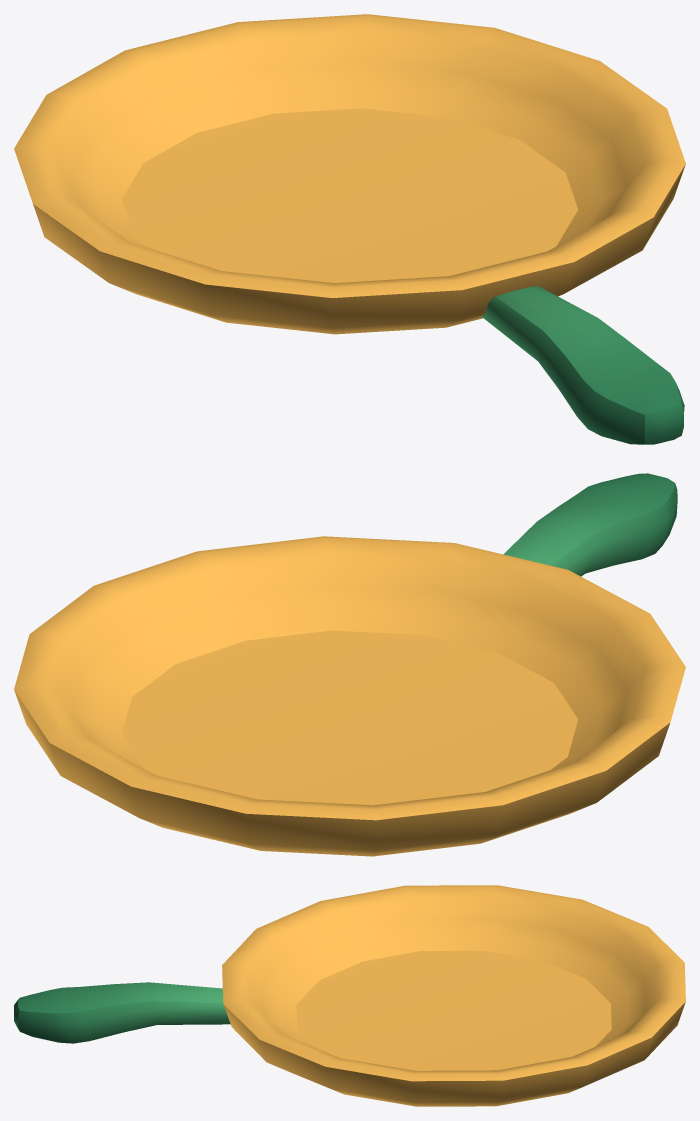
The model's file is PanFlat.fbx.
3 views of the same model, one above another, from view 1: azimuth 30°, elevation 25°; view 2: azimuth 150°, elevation 25°; view 3: azimuth 270°, elevation 25° (orthographic). The views are drawn at different scales.
Parts seen in each view (by area): view 1: PanFlat; view 2: PanFlat; view 3: PanFlat.
Part boxes in pixels (<box>): PanFlat: <box>14,14,685,444</box>; PanFlat: <box>14,473,685,856</box>; PanFlat: <box>14,885,685,1106</box>.
Bounding box in the file's own units: 53.93 × 6.87 × 78.11.
